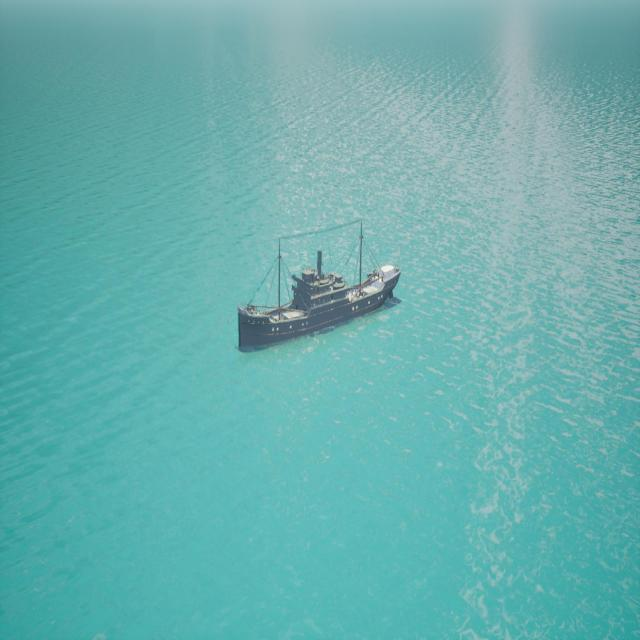fishing ship: (238, 239, 403, 356)
